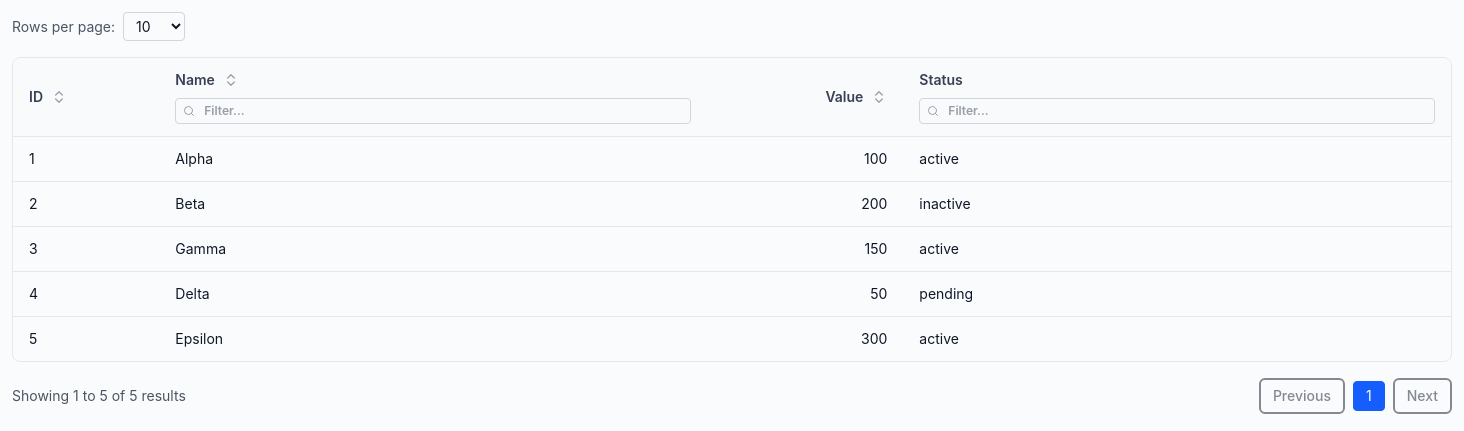
Test case: DataTable › Filtering › should filter data based on input
Type "Alpha" into the field named "filter name" at (433, 111), box [175, 98, 691, 124]
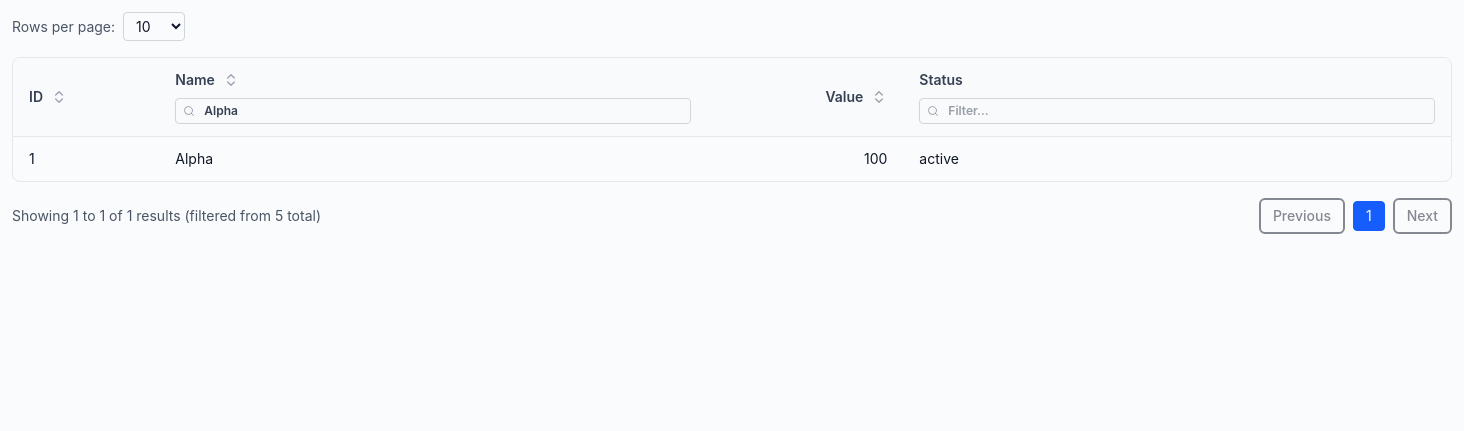
Expected: the text "Alpha" is shown, [159, 136, 707, 181]
Result: the text "Beta" is gone
